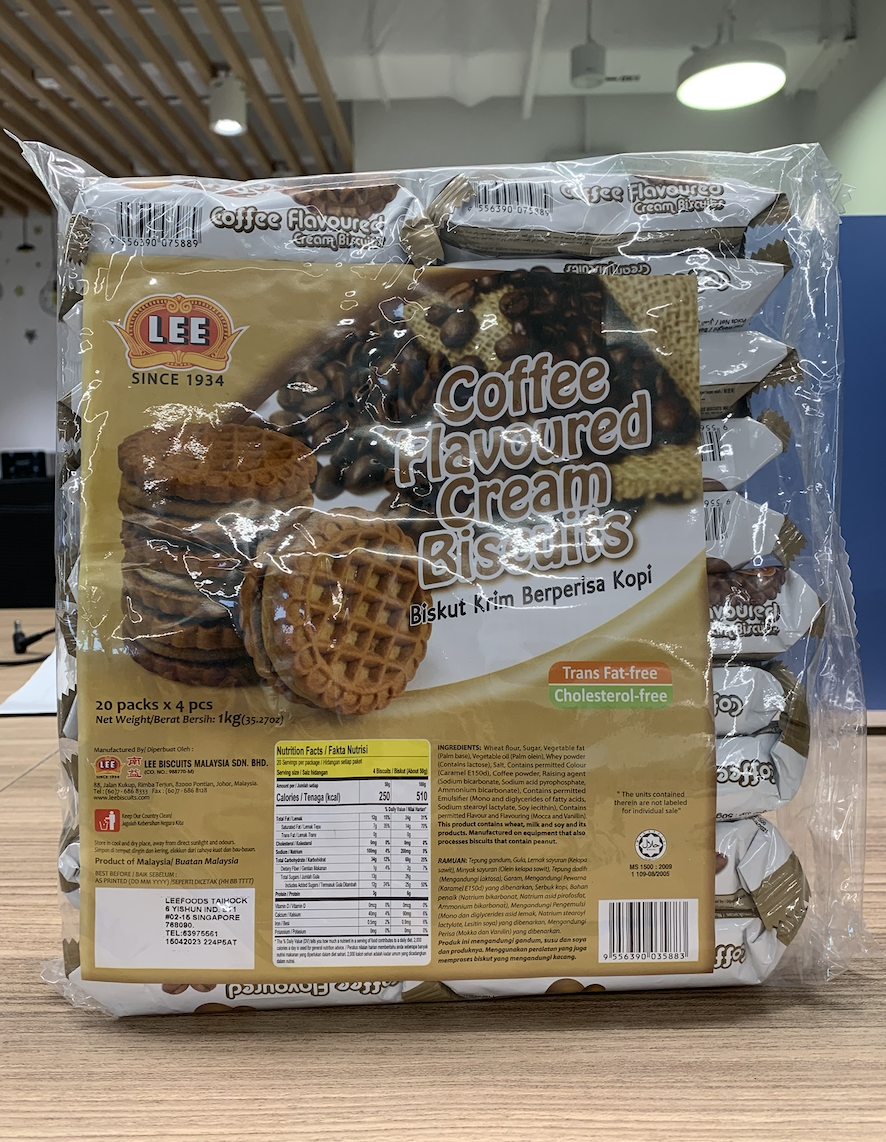cookies_1kg-1.99kg: (81, 188, 773, 976)
